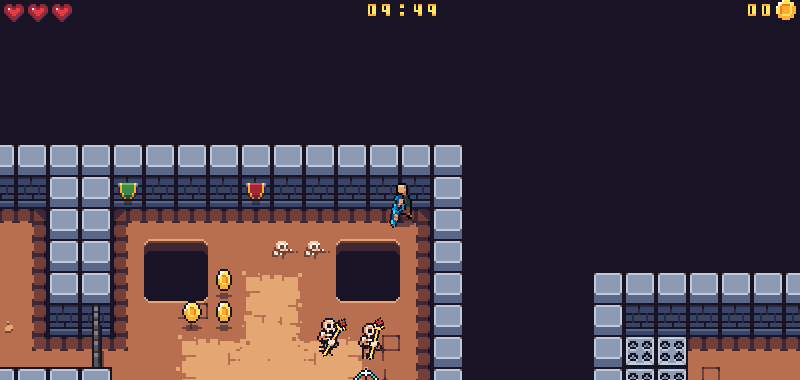enemy_skeleton: (315, 315, 348, 354), (360, 316, 387, 363)
gold: (215, 300, 235, 325), (215, 267, 234, 292), (182, 302, 202, 324)
trap_door: (85, 294, 107, 377)
trap_off: (625, 335, 687, 380)
